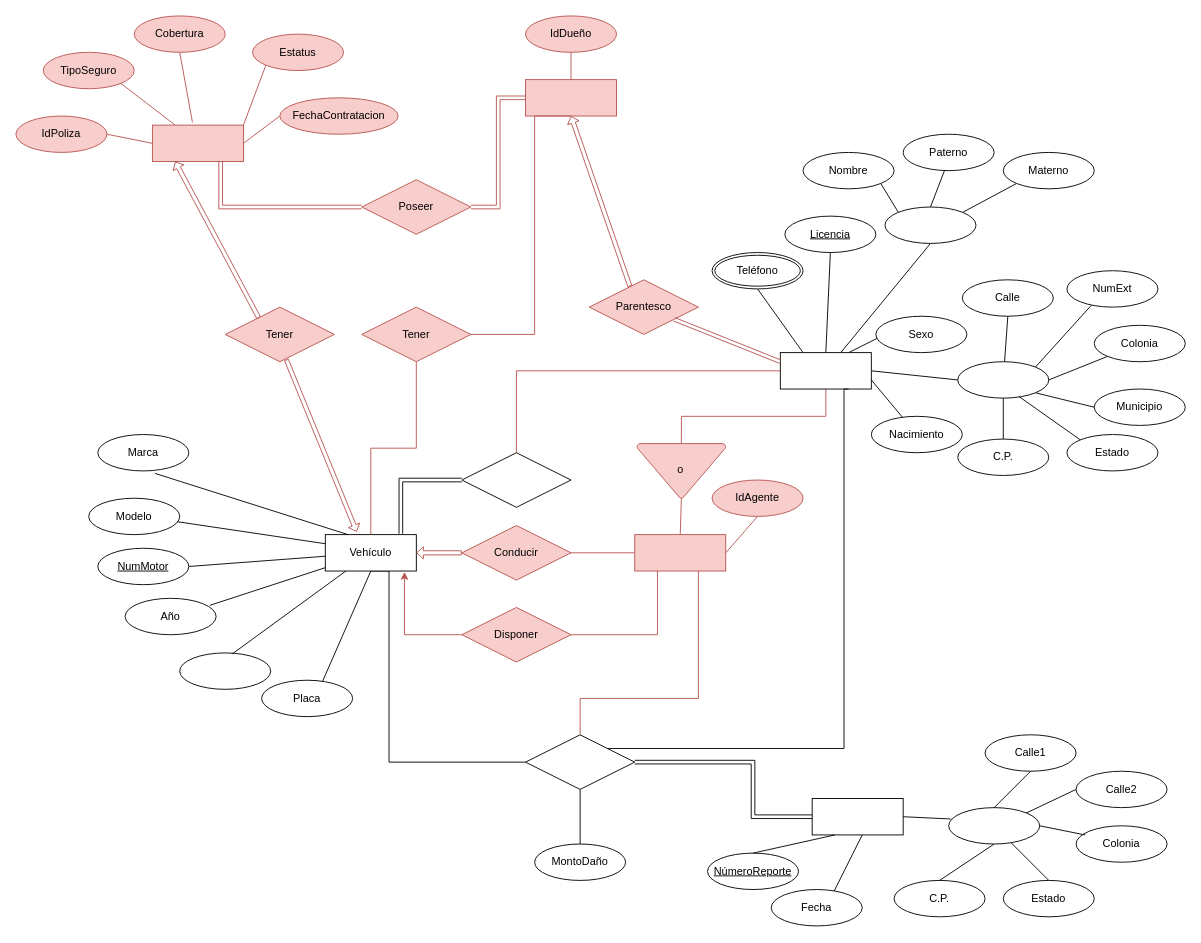
Some shapes in this 1201 by 943 pixel diagram are drawn without their labels. Each missing label, with the centre of its shape:
Accidente: [857,816]
Agente: [680,552]
Color: [225,670]
Dirección: [1003,379]
Dueño: [571,97]
Manejar: [516,479]
NombreC: [930,224]
Participar: [580,761]
Persona: [825,370]
Póliza: [197,143]
Ubicación: [994,825]
